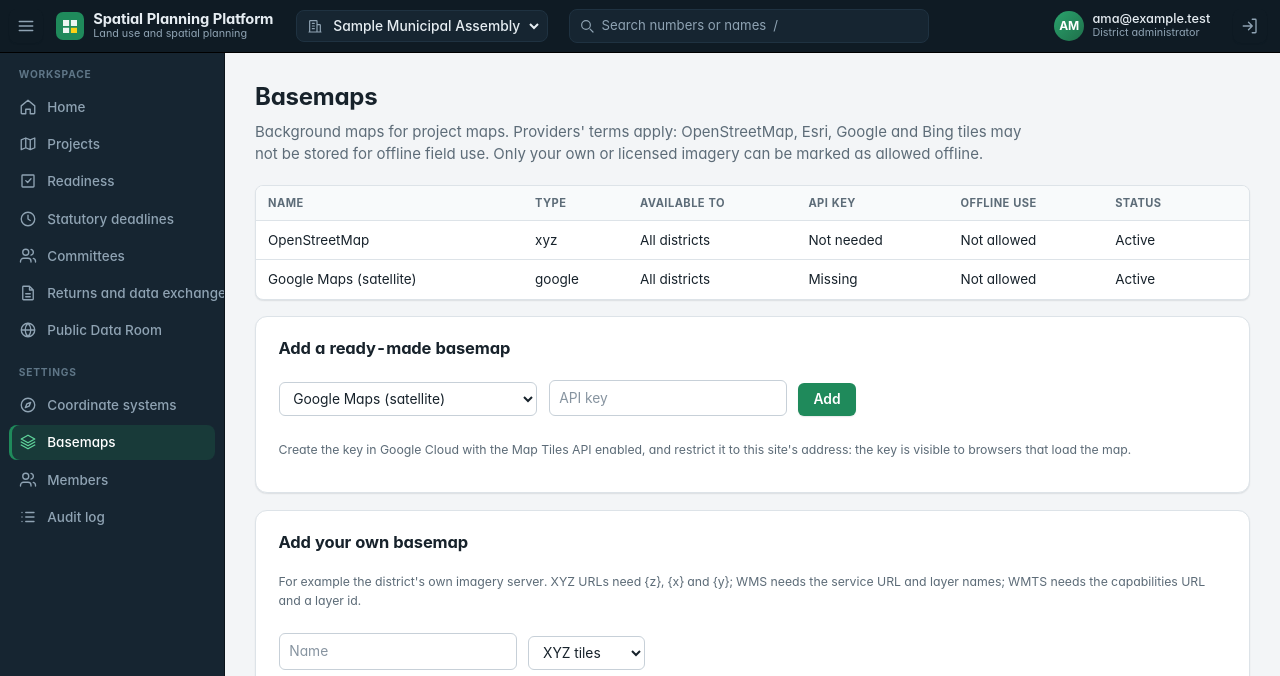
basemaps page › adds a ready-made basemap with its key
The image size is (1280, 676).
Type "MY-KEY" into the field labelled "API key" at (668, 398), box 548,380 -> 787,416
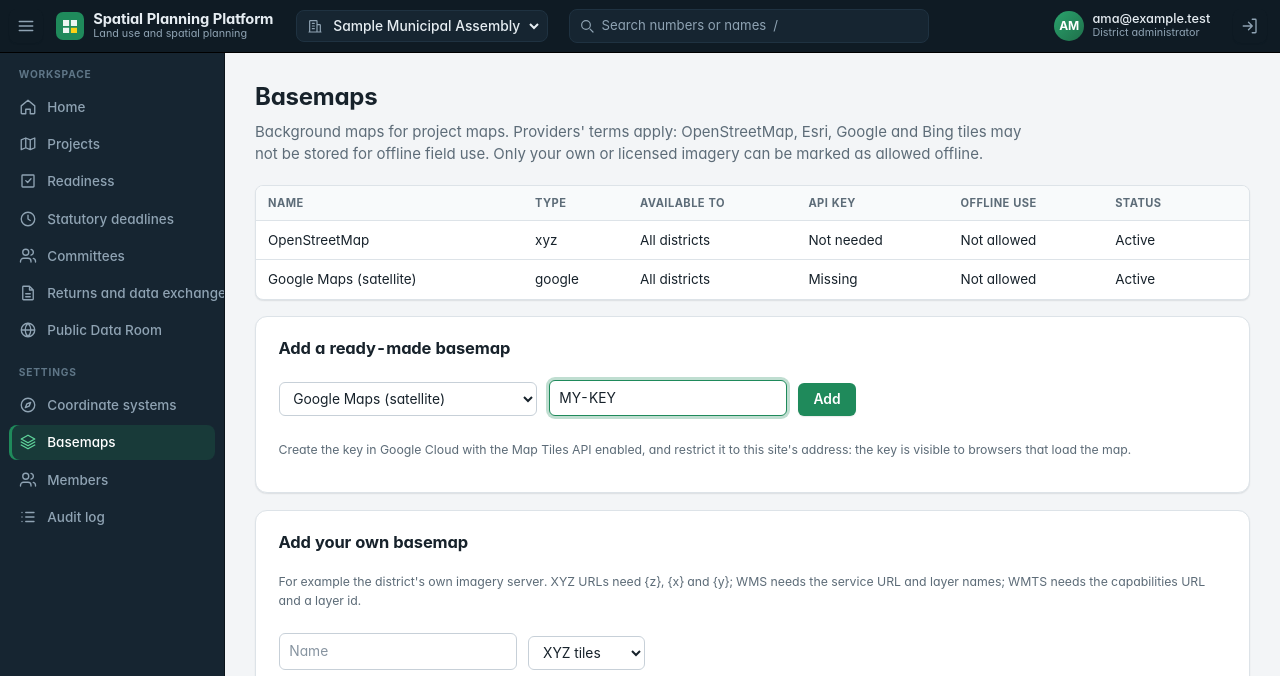
Click the button "Add" at (827, 399), box 798,383 -> 856,416
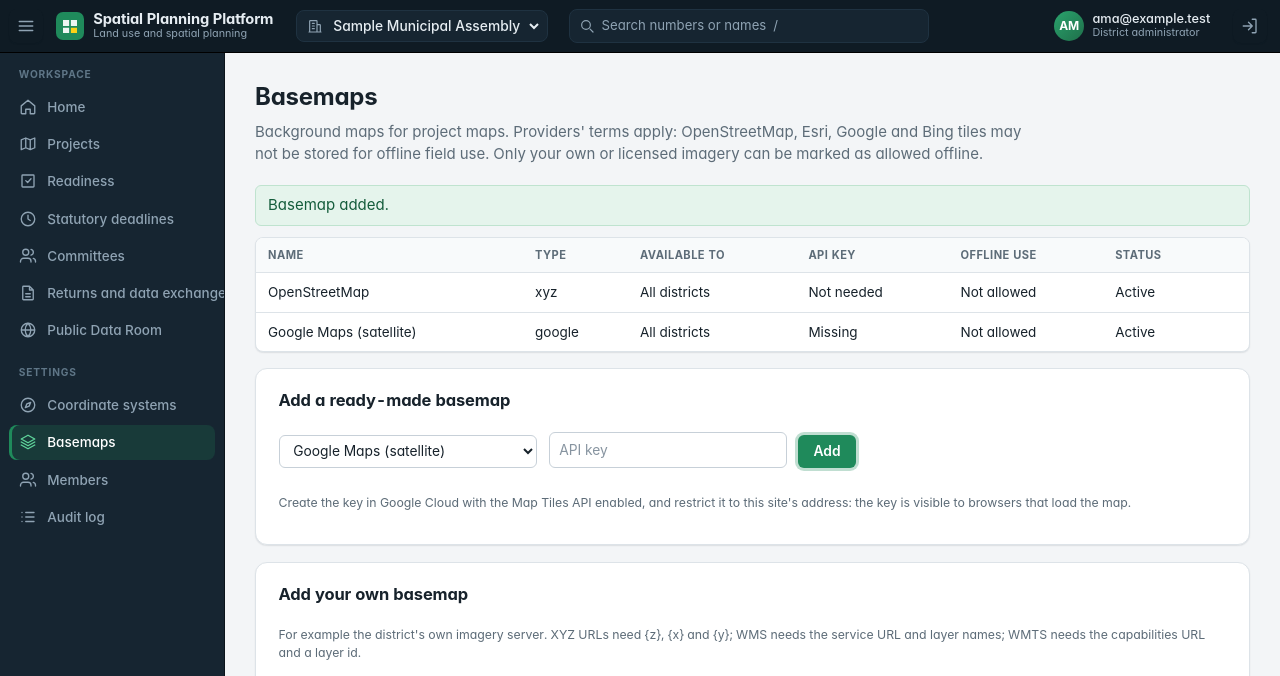
Expected: the message reads "Basemap added.", 268,195 -> 389,214
